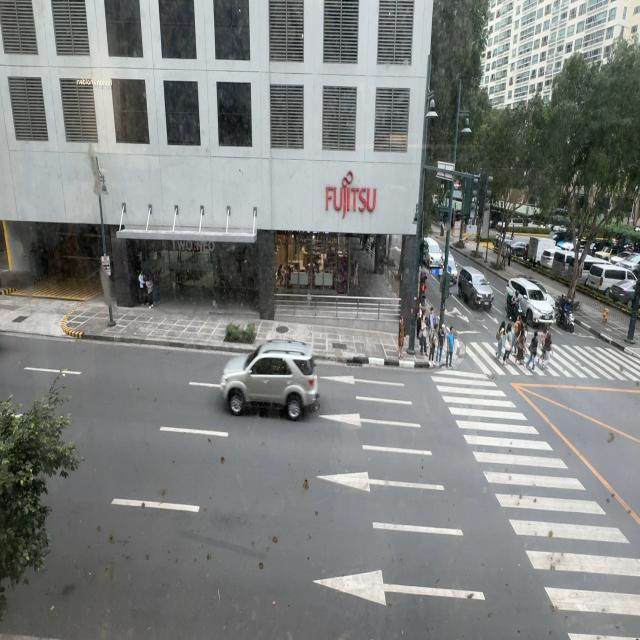crossing: (540, 330, 553, 370), (525, 331, 538, 371), (501, 323, 513, 364), (516, 322, 526, 365), (512, 313, 520, 362), (496, 323, 506, 361)
waiting: (436, 322, 446, 366), (446, 326, 455, 369), (396, 314, 404, 362), (419, 318, 428, 358), (428, 323, 437, 363), (427, 306, 435, 351), (416, 303, 423, 333)
